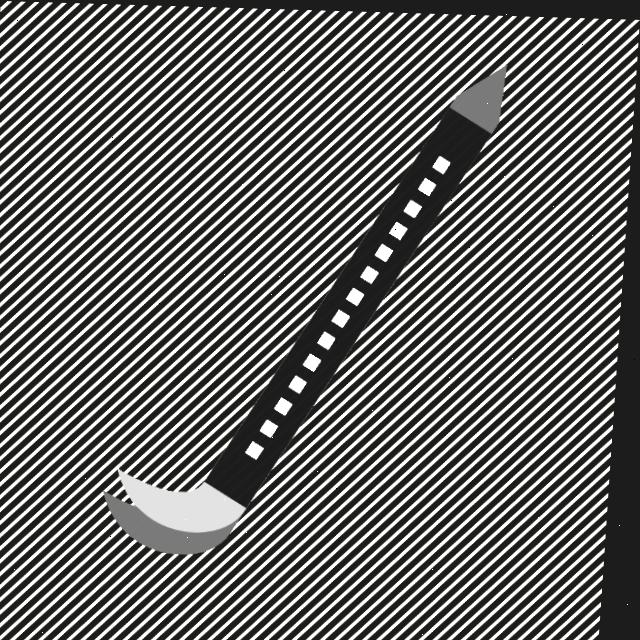crow bar: (97, 35, 530, 570)
